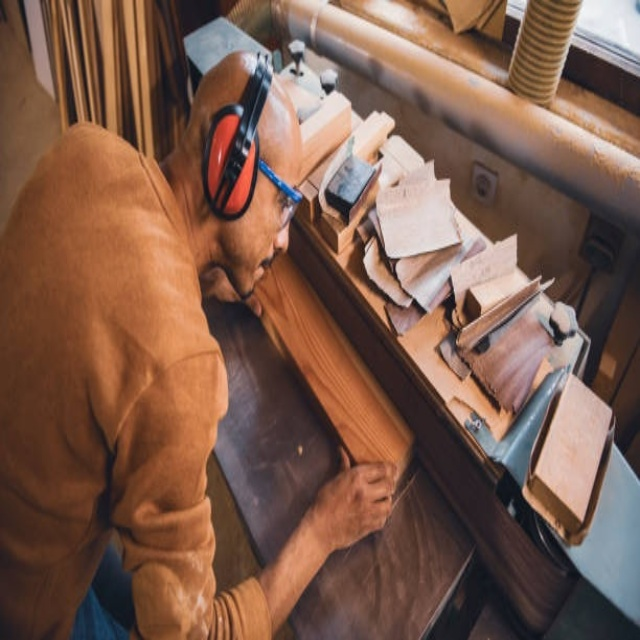Gafas: (259, 160, 304, 227)
Sin_guantes: (320, 447, 400, 551)
Sin_mascara: (238, 246, 277, 302)
